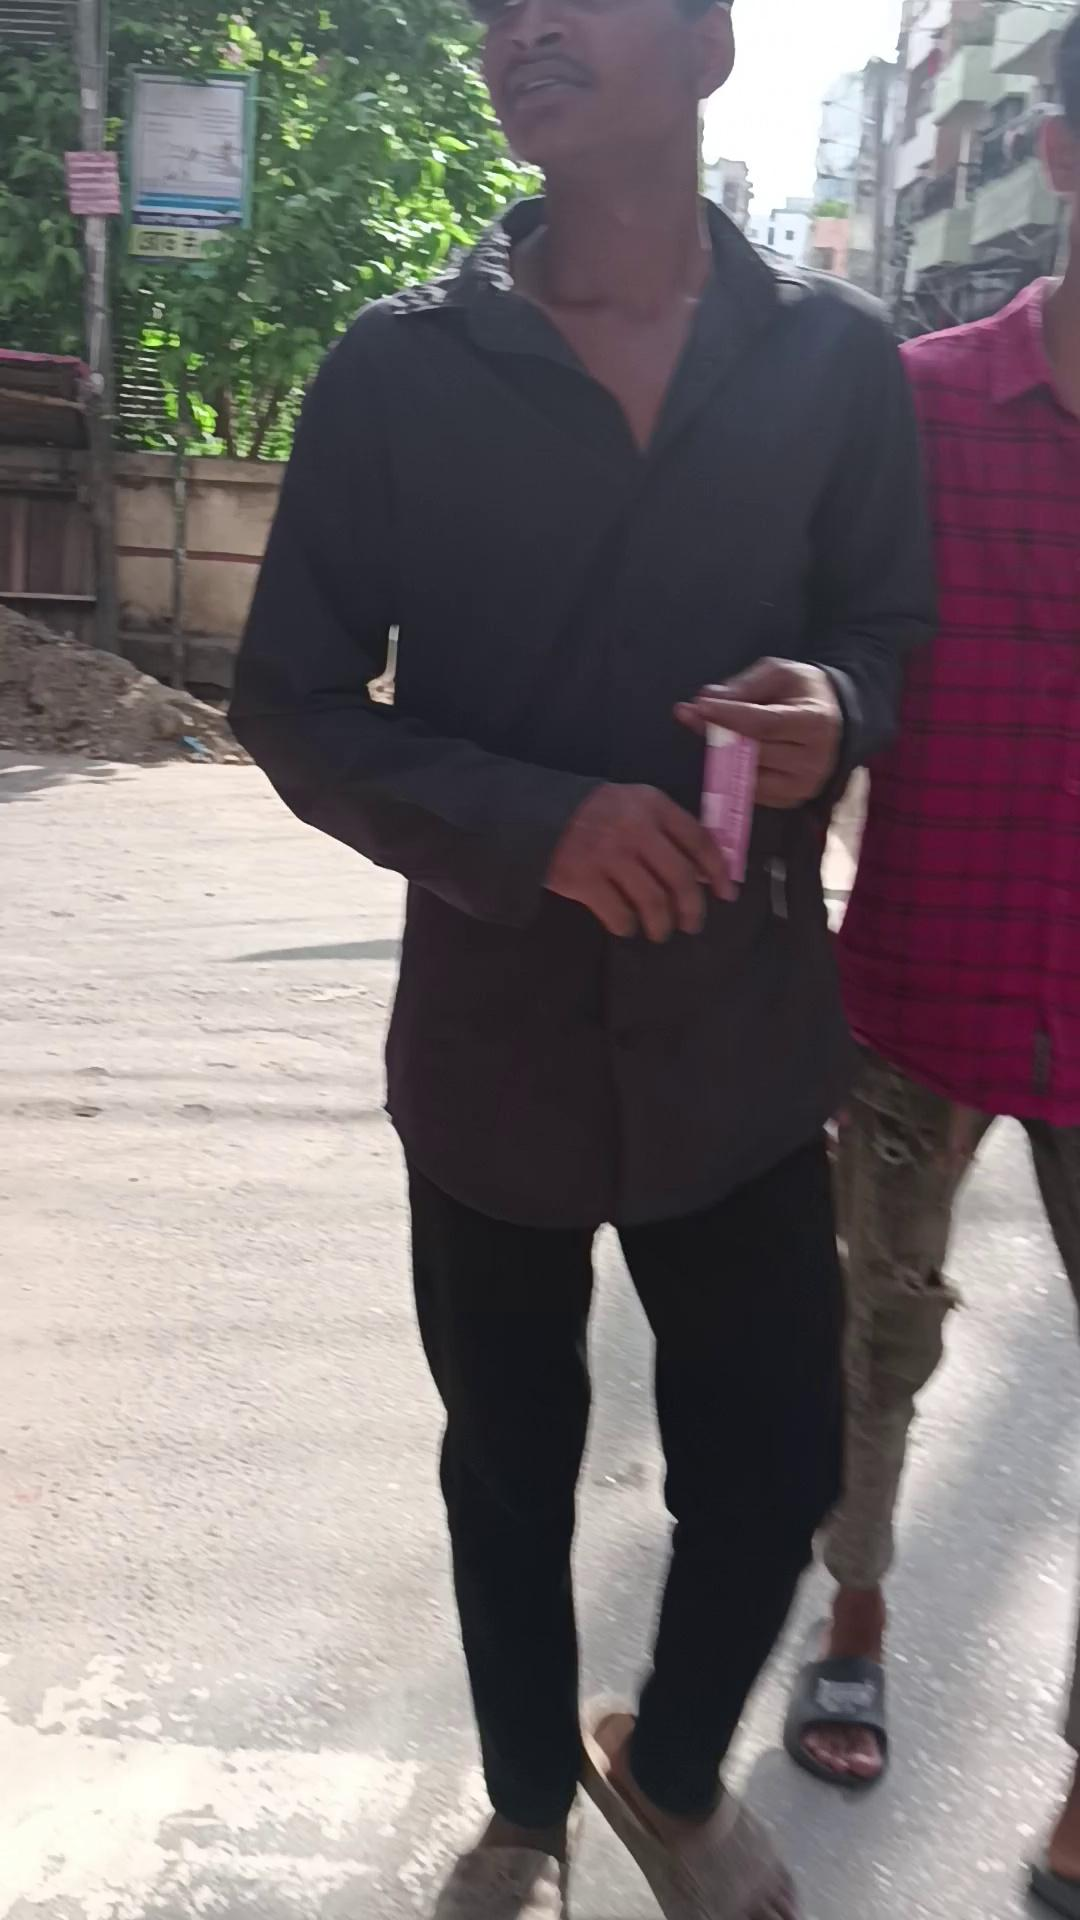Muddy road: (225, 0, 942, 1917), (782, 9, 1079, 1909)
Obstacle: (66, 3, 123, 655)
